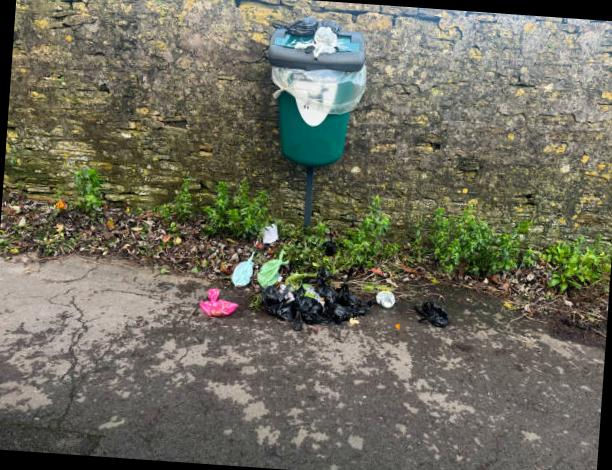trash: (280, 20, 364, 76), (296, 276, 331, 328), (324, 280, 366, 318), (376, 282, 411, 318), (231, 254, 260, 296), (264, 288, 298, 318), (204, 286, 230, 324), (262, 260, 291, 294), (424, 299, 451, 330), (260, 214, 279, 244)
trash_can_overflow: (164, 0, 507, 351)
